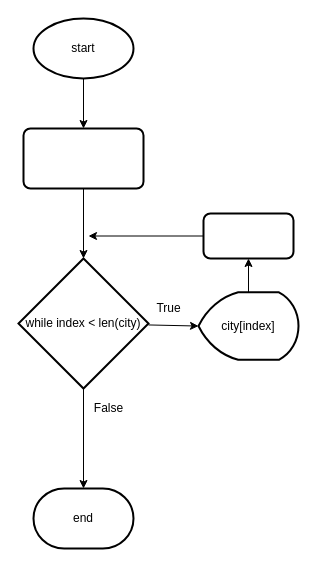
Image size: 316x566. Some labels were removed from this diagram. Each missing label, with the box of its shape:
city = "Boston" index = 0: (22, 127, 144, 189)
index += 1: (202, 212, 294, 259)
